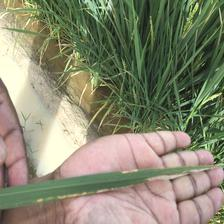2 BacterialBlight: (32, 182, 148, 204), (117, 164, 157, 177)
